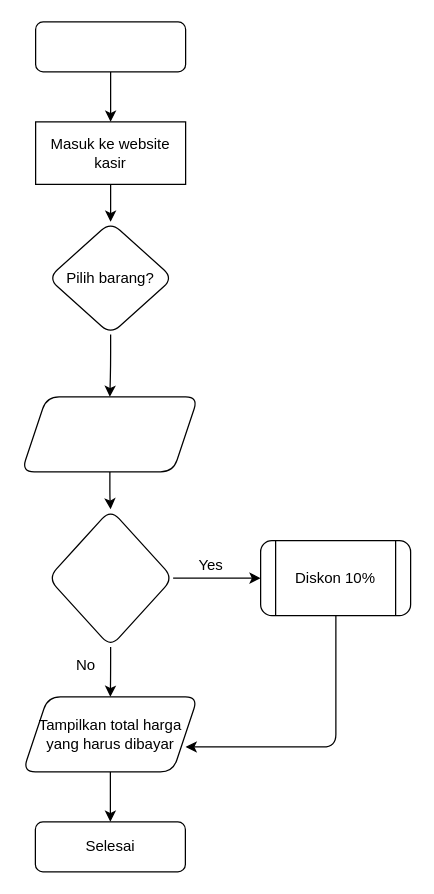
The diagram is 434 pixels wide and 894 high, and some of its shapes have lost their labels. The box of each missing label's shape, as (x1, y1, x2, y2) in pixels:
Apakah total harga lebih dari 50k?: (47, 508, 173, 647)
Mulai: (34, 21, 186, 72)
Tampilkan nama barang dan total harga: (20, 396, 198, 472)
